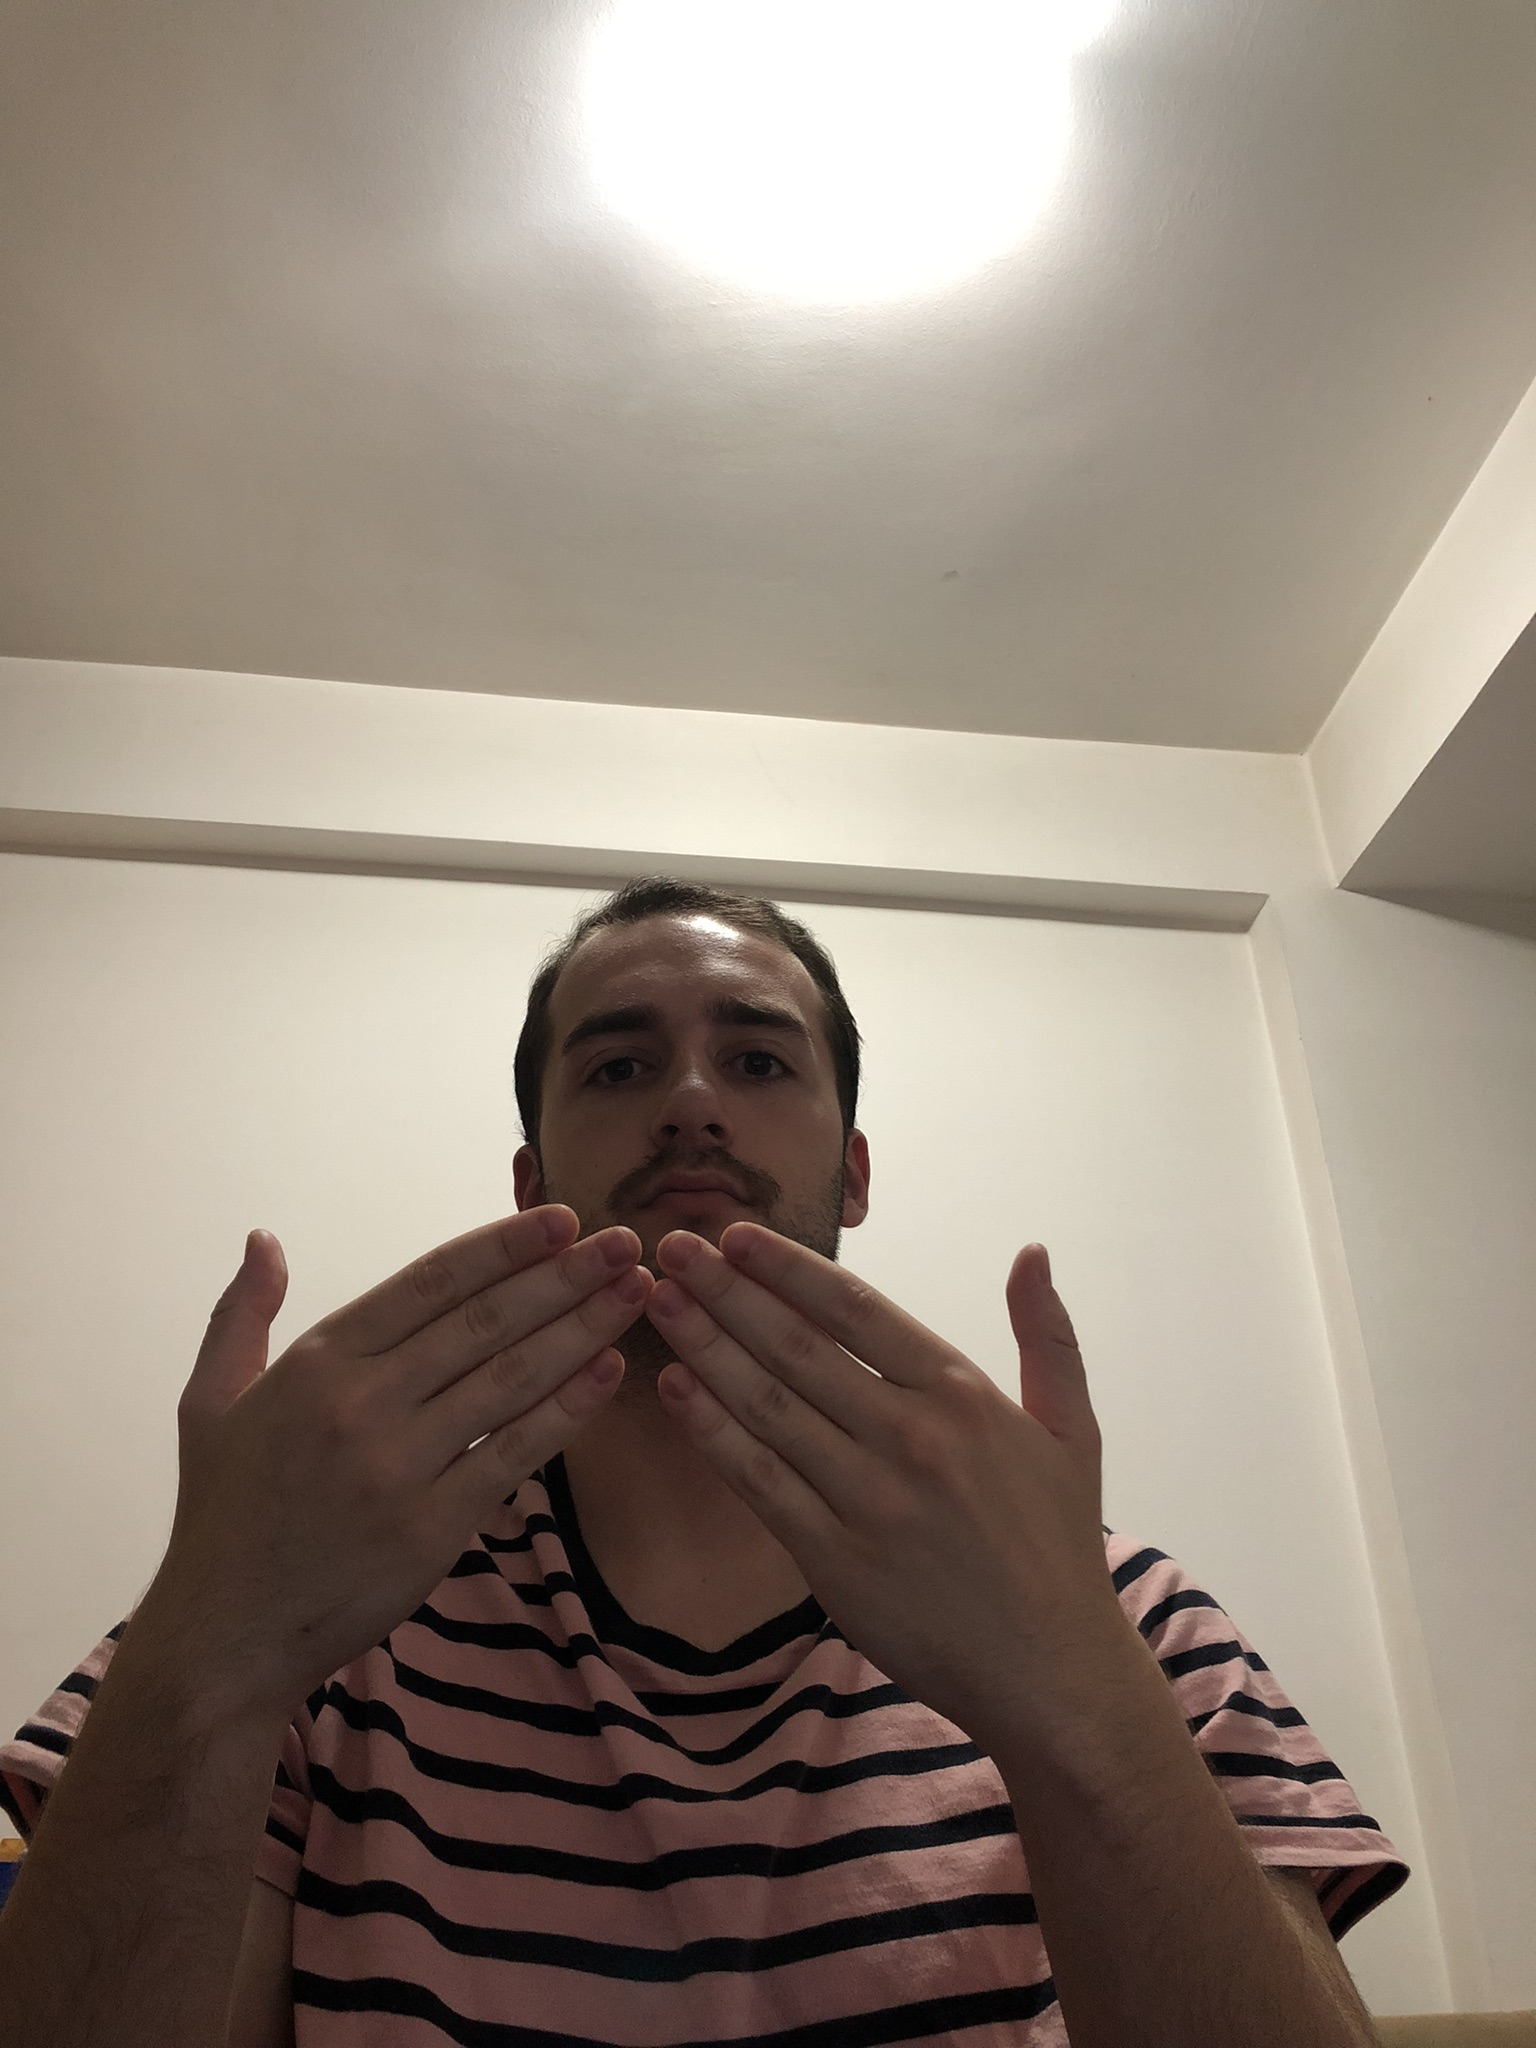Thank You: (177, 1197, 1108, 1787)
